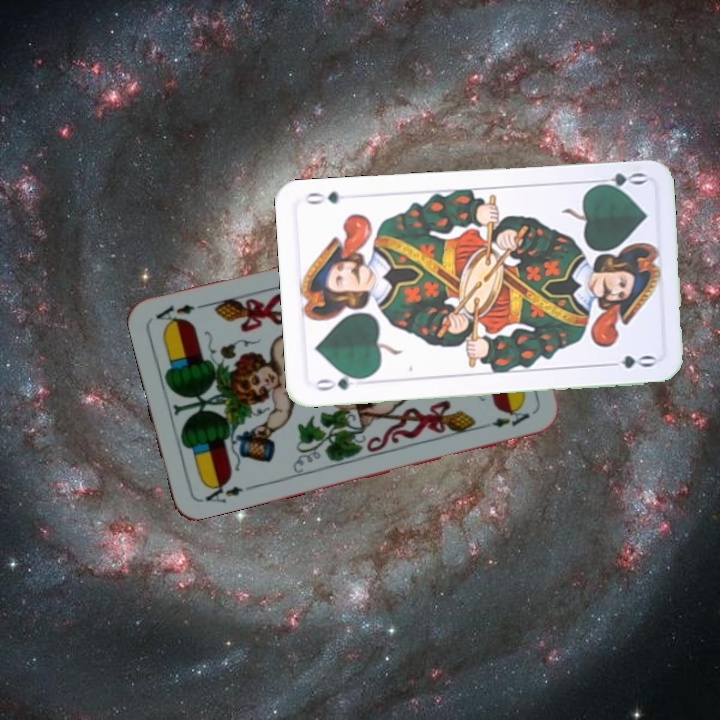EA: (196, 475, 246, 506)
GO: (588, 168, 648, 194), (310, 370, 369, 393)
